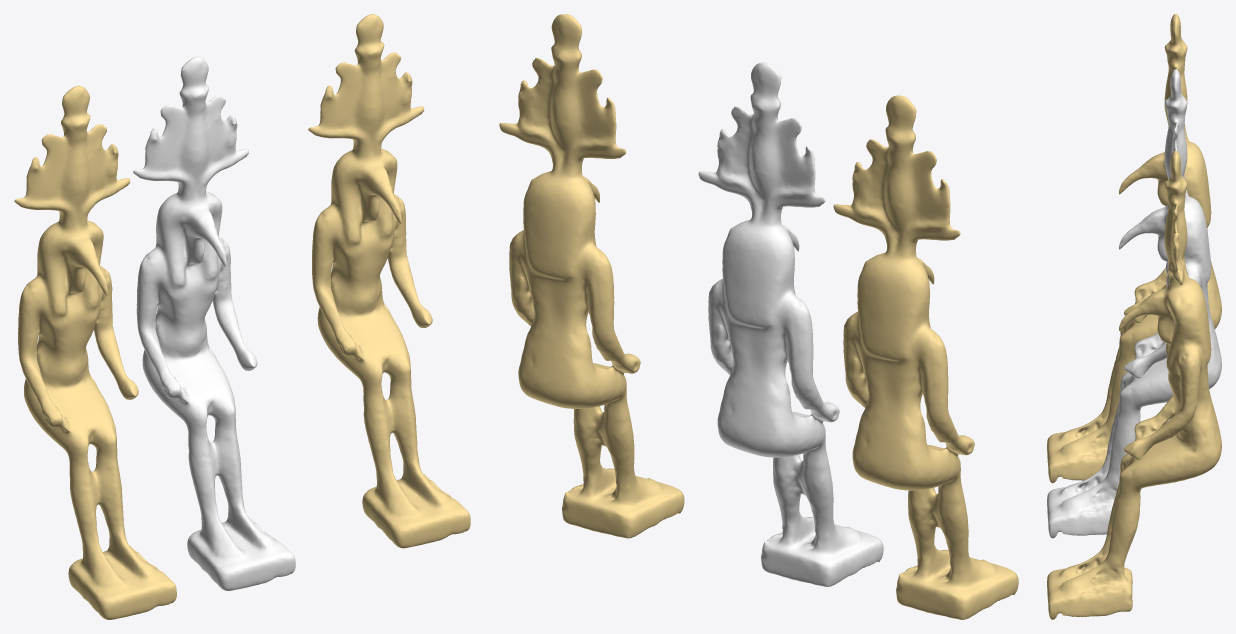
The model's file is GoldThoth.glb.
The picture shows the model from 3 angles, left to right: view 1: azimuth 30°, elevation 25°; view 2: azimuth 150°, elevation 25°; view 3: azimuth 270°, elevation 25°; orthographic projection. The views are drawn at different scales.
Parts seen in each view (by area): view 1: Object_2_, Object_2, Object_2.001; view 2: Object_2.001, Object_2_, Object_2; view 3: Object_2, Object_2.001, Object_2_.
Boxes of the visible parts, x1,y1,x2,y2 form: Object_2_: [14, 85, 176, 619]; Object_2: [308, 14, 470, 548]; Object_2.001: [133, 56, 295, 590]; Object_2.001: [698, 62, 883, 586]; Object_2_: [833, 95, 1018, 619]; Object_2: [499, 14, 684, 538]; Object_2: [1047, 150, 1221, 619]; Object_2.001: [1047, 69, 1221, 538]; Object_2_: [1047, 14, 1221, 483].
Size of the model in its own units: 0.3295 by 0.375 by 0.1286.
Materials: 3 (2 with a texture image).
